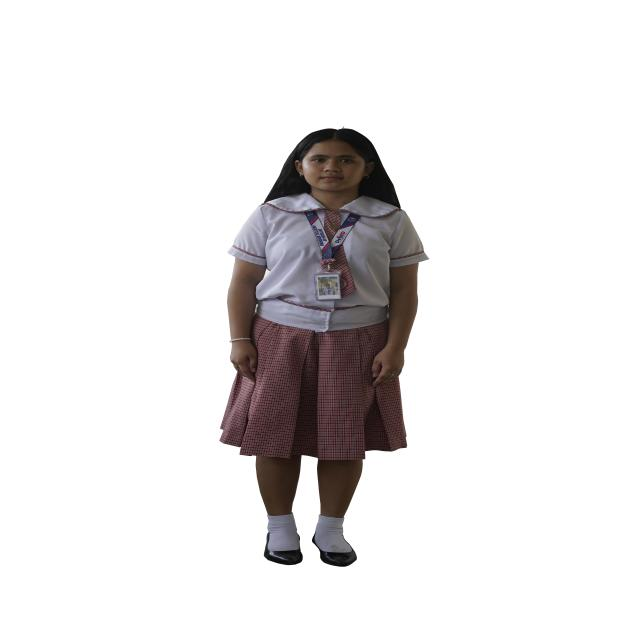id lace: (305, 212, 362, 264), (334, 285, 346, 299)
pologirl: (228, 193, 428, 332), (331, 245, 356, 296), (323, 211, 342, 240)
shoes: (264, 533, 303, 565), (317, 547, 357, 567)
skirt: (221, 315, 406, 460)
